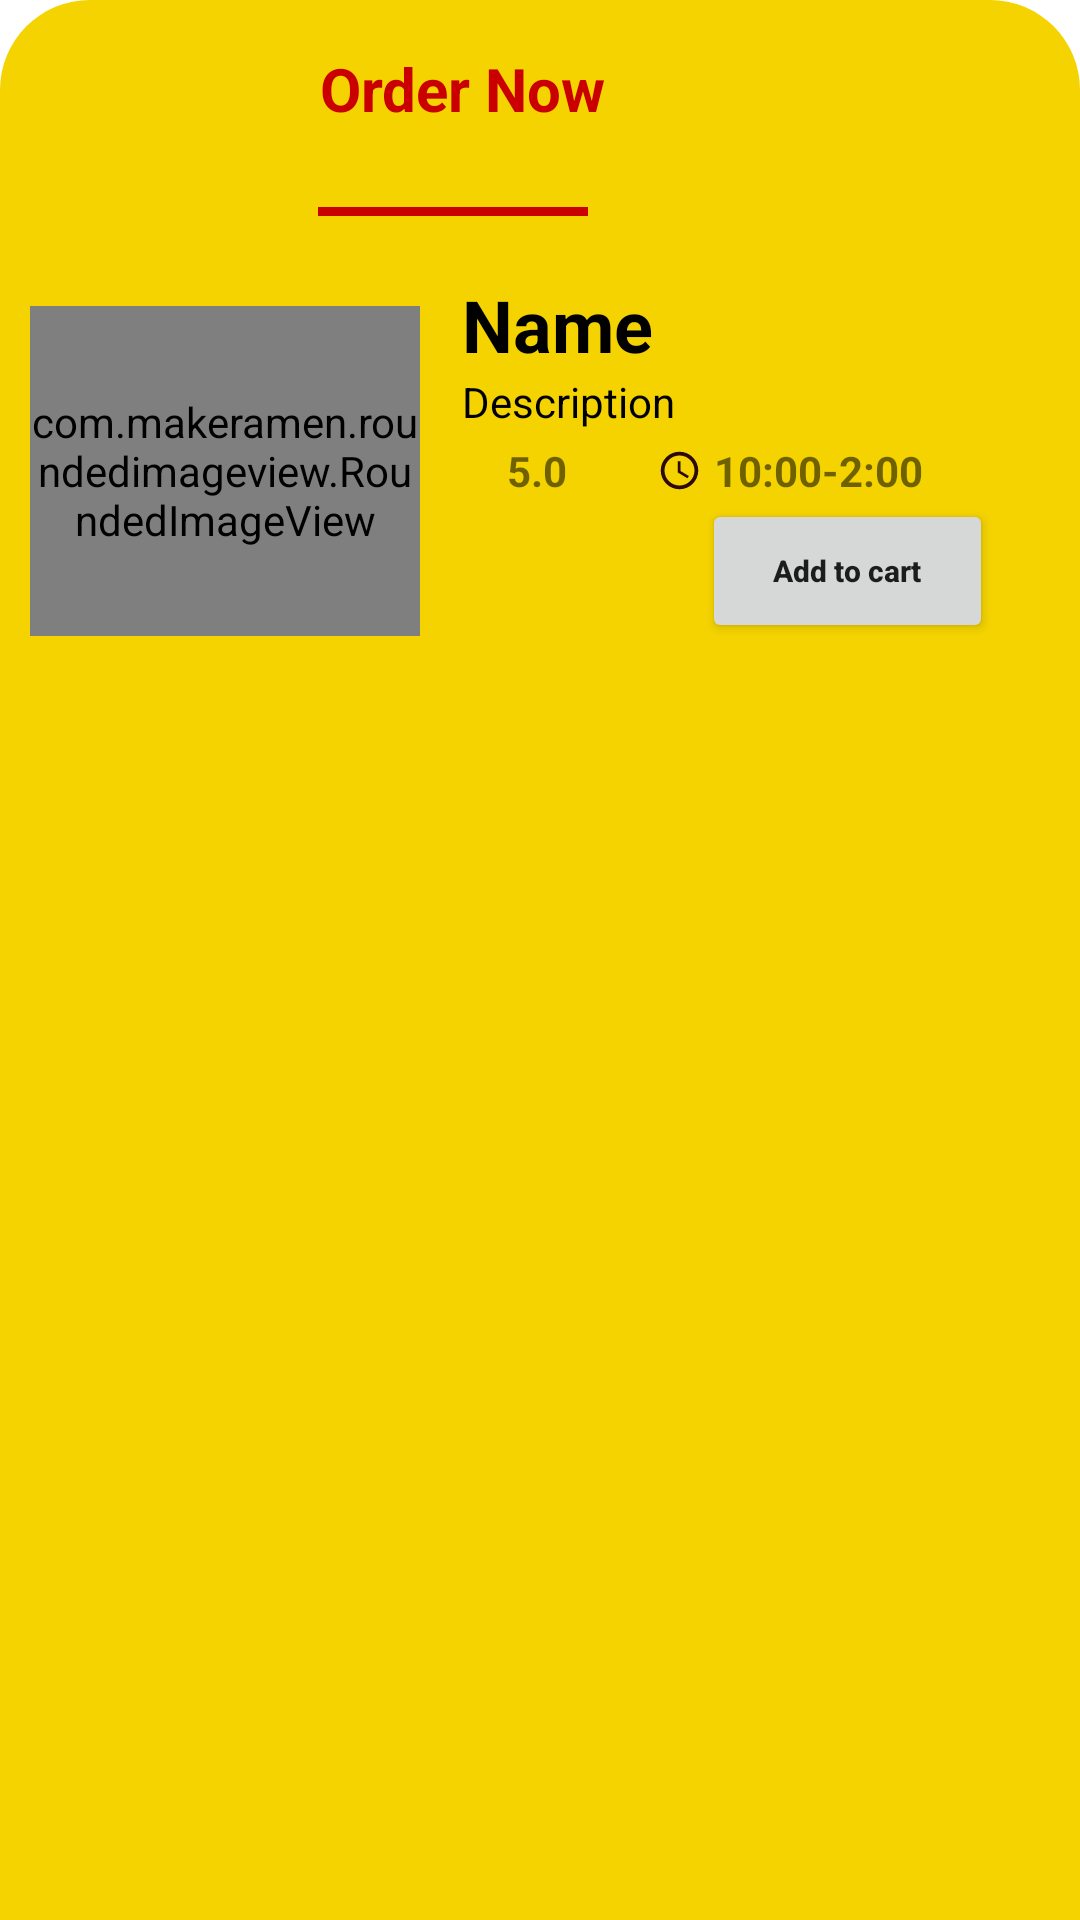

Point at icon controls on the screen. Image size 1080px×1920px, points as [x,y].
access time: [679,470]
